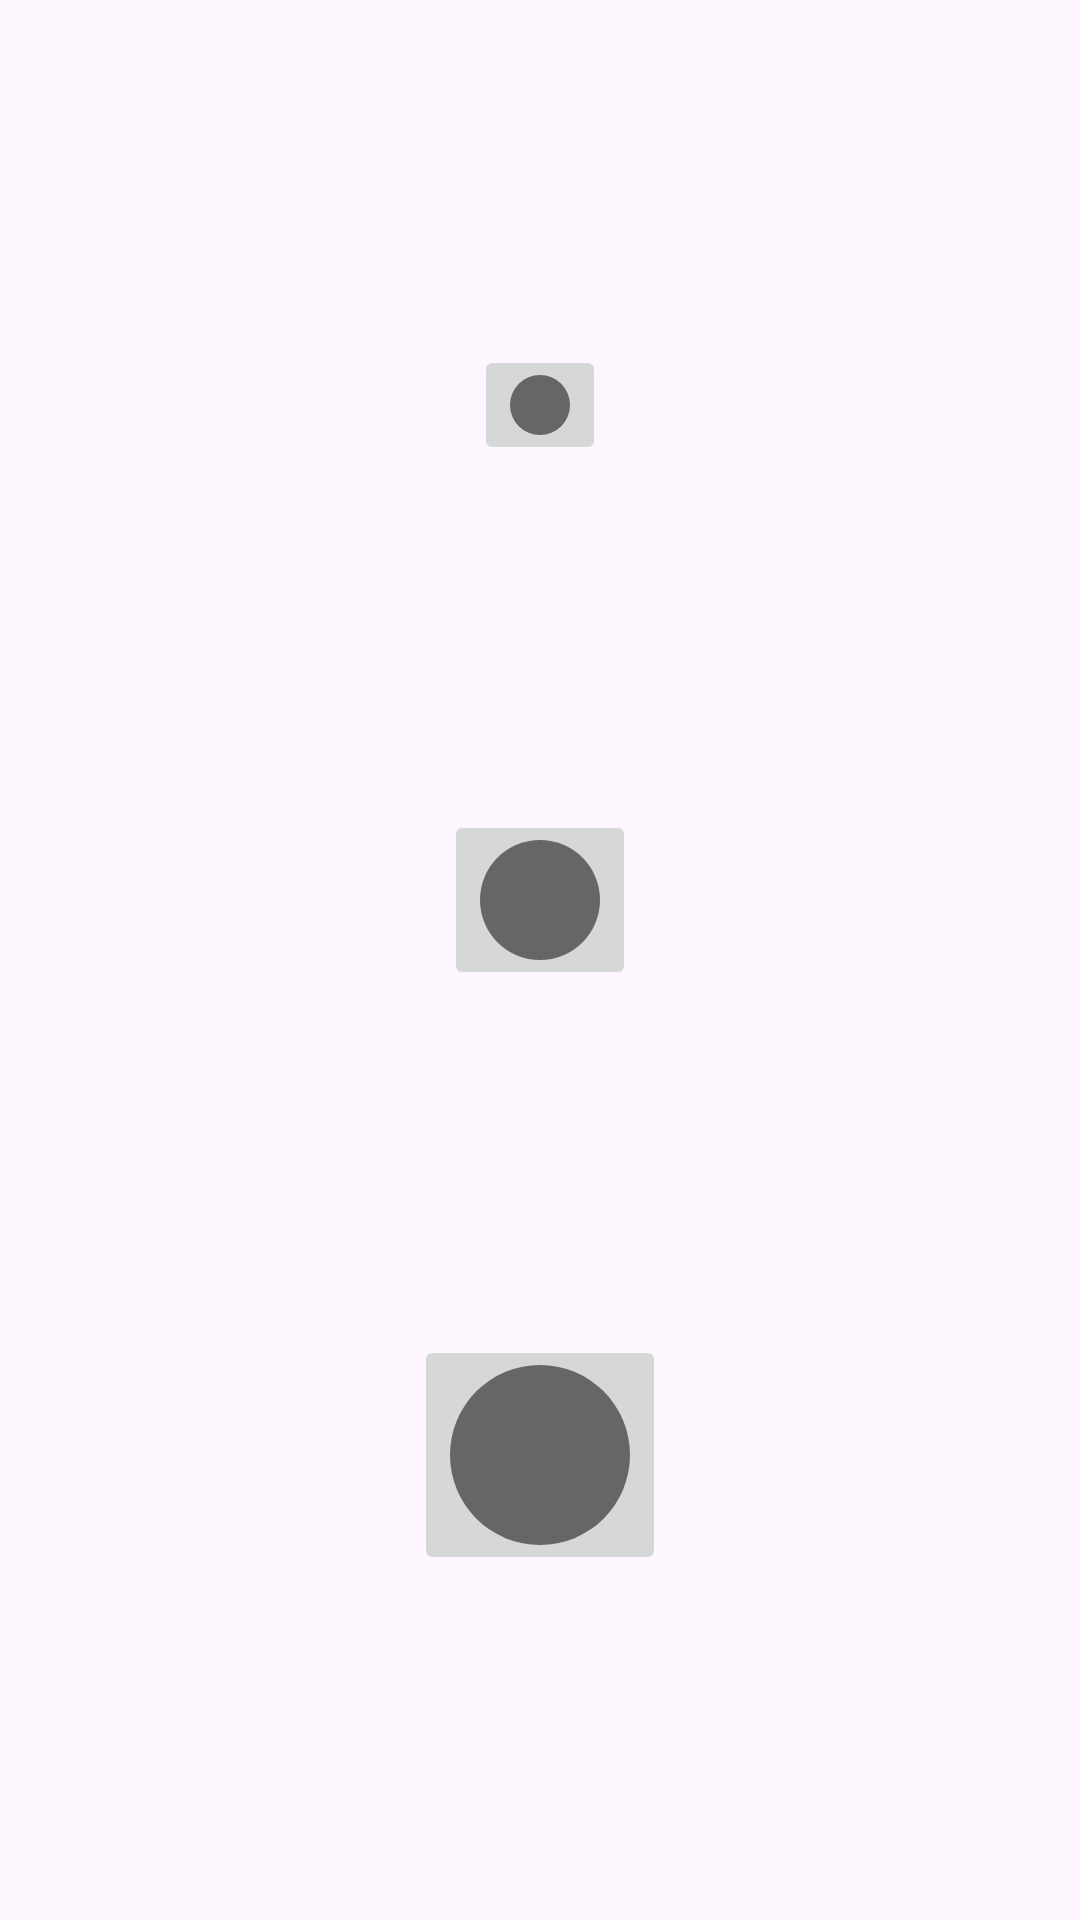

Where to tap for icons on this 1080px x 1920px app screen, as [x,y]:
large size Brush: [540,1455]
medium size Brush: [540,900]
small size Brush: [540,405]
